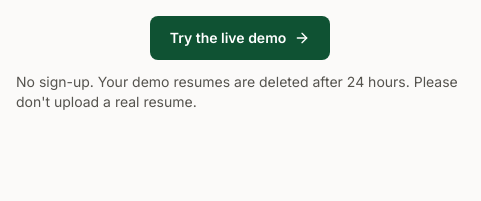
Scenario: StartDemoButton › explains when the bot check can't load
Click the button "Try the live demo": (240, 38) [150, 16, 330, 60]
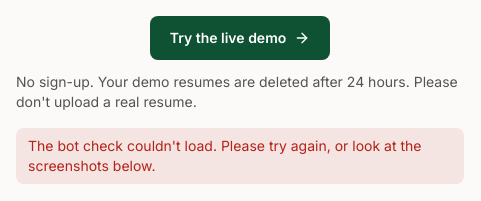
expect the message reads "The bot check couldn't load. Please try again, or look at the screenshots below.": met, box [28, 137, 422, 174]
